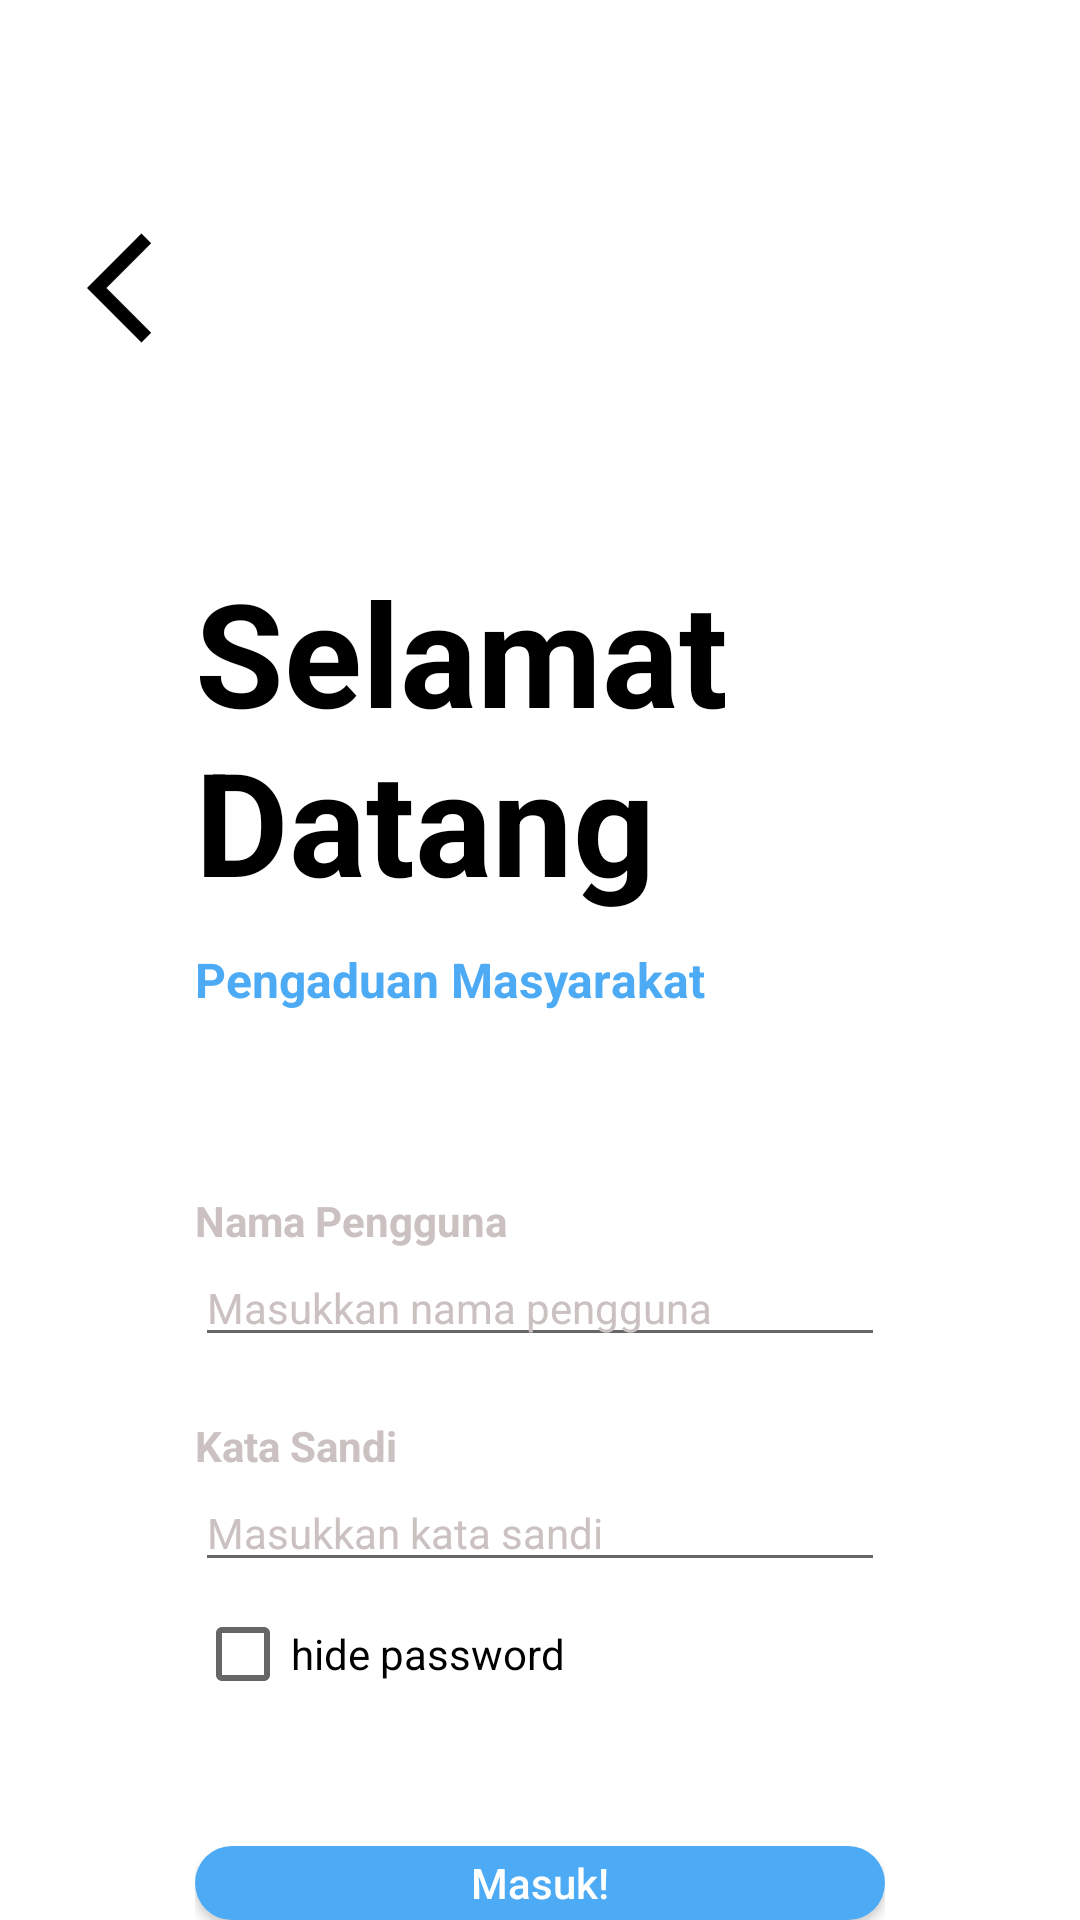

Where to tap for icons on this 1080 x 1920 app screen, as point (x, y):
arrow back: point (119, 288)
